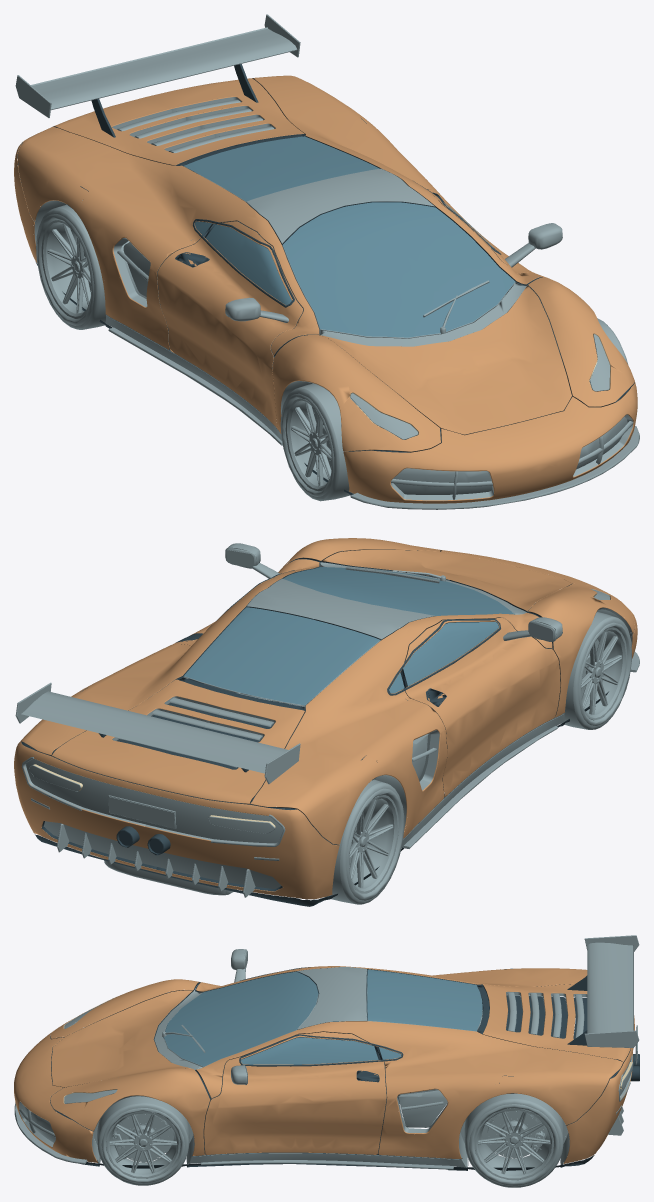
Rendered from vinish-wedge-supercar.glb.
The picture shows the model from 3 angles, top to bottom: view 1: azimuth 30°, elevation 25°; view 2: azimuth 150°, elevation 25°; view 3: azimuth 270°, elevation 25°; orthographic projection. The views are drawn at different scales.
Visible parts, largest first — view 1: Body; view 2: Body; view 3: Body.
Boxes of the visible parts, bbox=[...] form: Body: bbox=[14, 14, 639, 509]; Body: bbox=[14, 538, 639, 906]; Body: bbox=[14, 935, 639, 1187].
Bounding box in the file's own units: 2.14 × 1.16 × 4.45.
